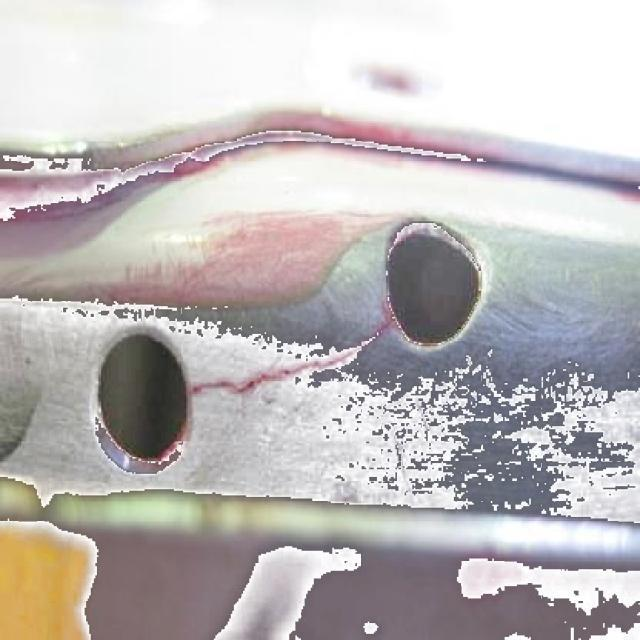crack: (195, 358, 337, 398), (338, 321, 396, 358)
